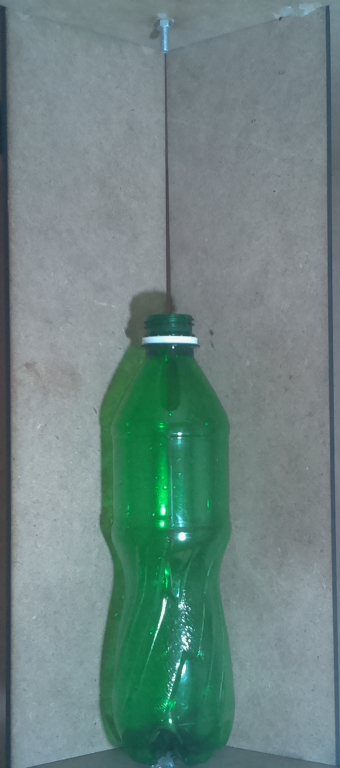Bouteille_0.5L: (95, 307, 247, 768)
